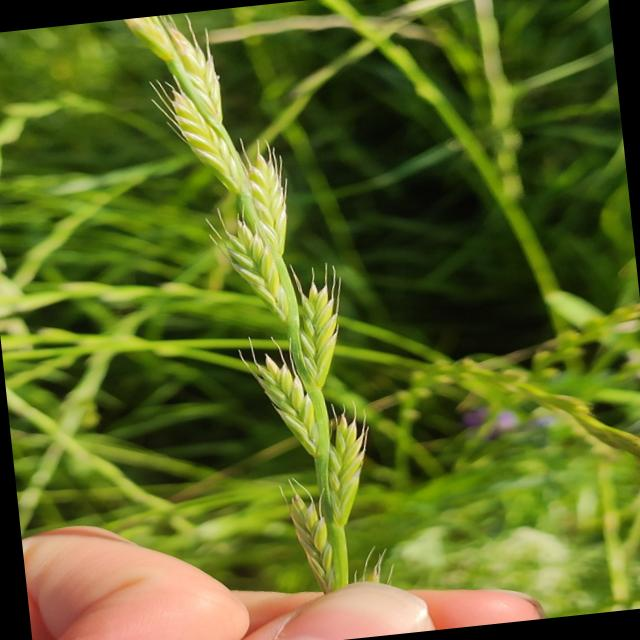Lolium: (122, 0, 397, 609), (490, 356, 640, 488)
